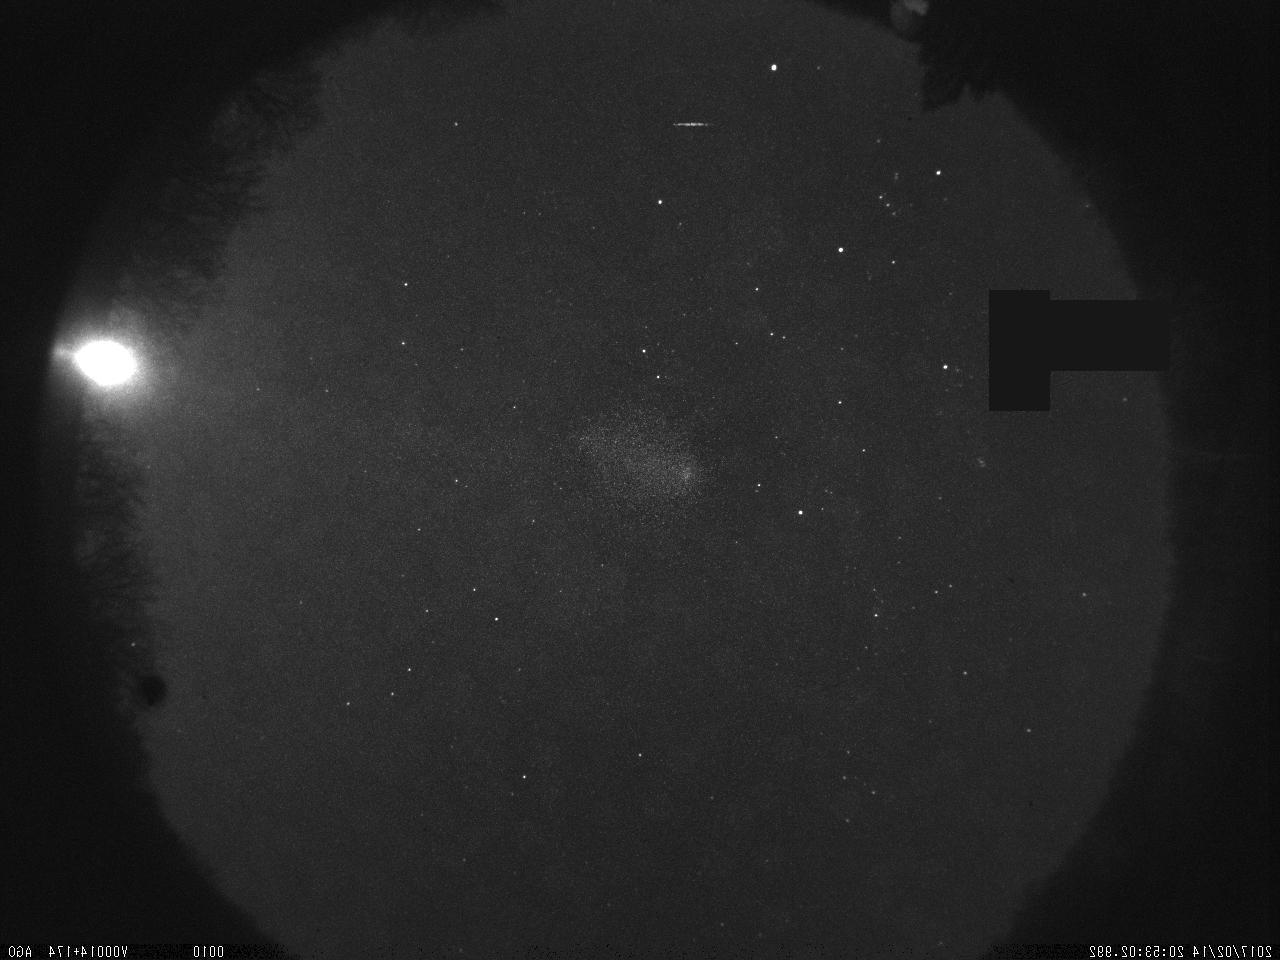meteor: (659, 111, 728, 143)
